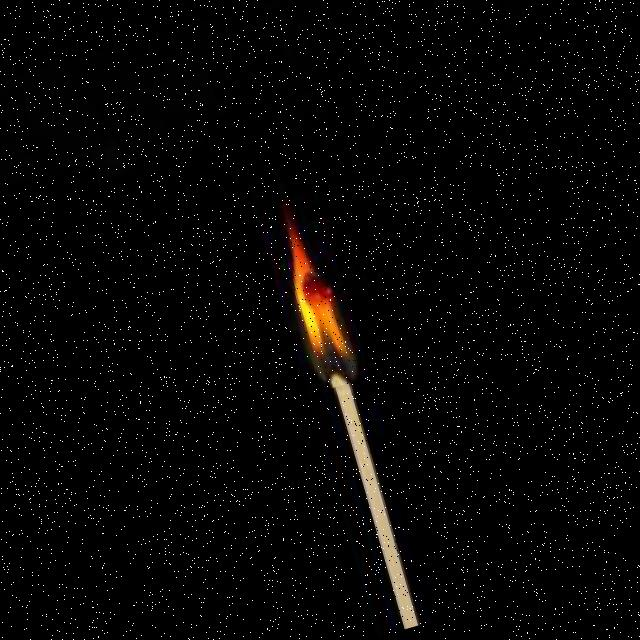fire: (254, 188, 386, 394)
